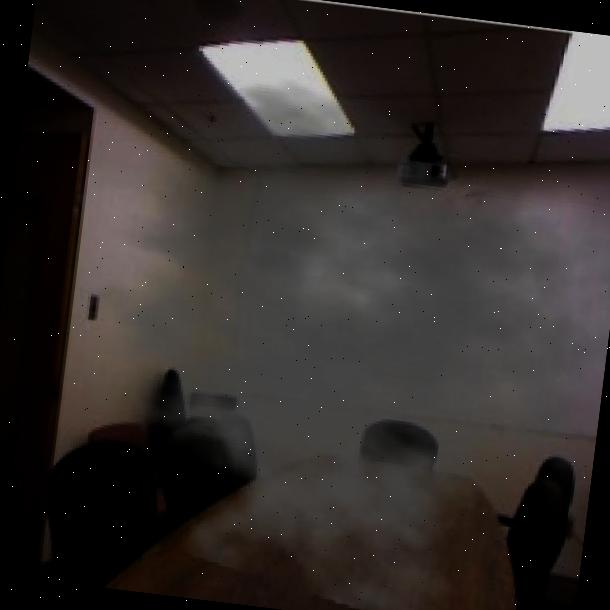smoke: (28, 54, 610, 610)
